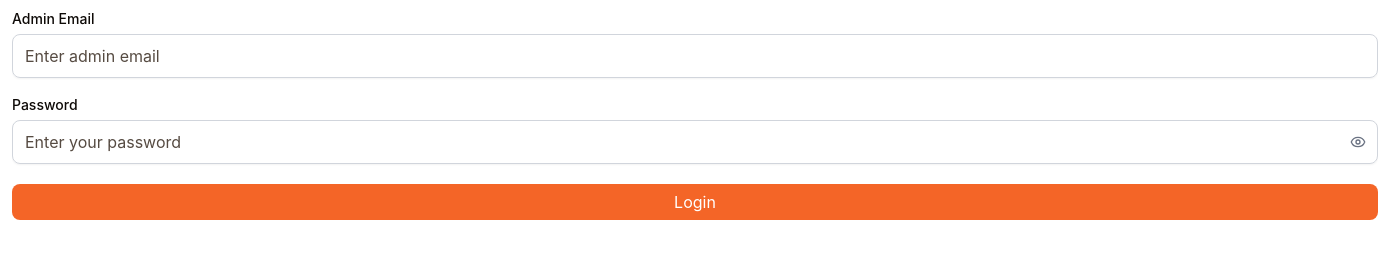
Test: AdminLoginForm › shows a validation error for an invalid admin email
This screenshot has width=1390, height=265.
Type "not-an-email-or-phone" into the field labelled "Admin Email".
click(695, 56); type("not-an-email-or-phone")  # box [12,34,1378,78]
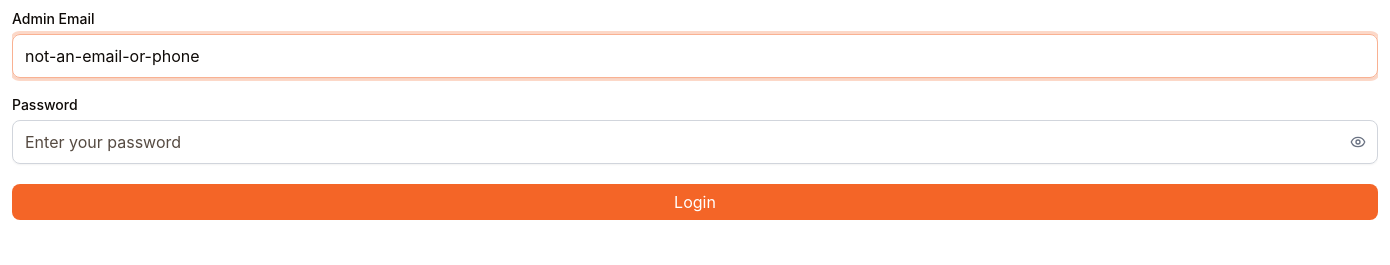
Type "password123" into the password field labelled "Password".
click(695, 142); type("password123")  # box [12,120,1378,164]
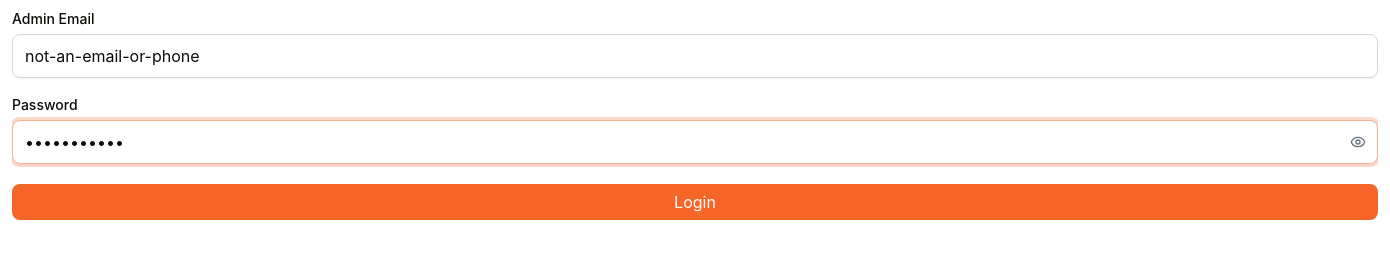
Click the button "Login".
click(695, 202)  # box [12,184,1378,220]
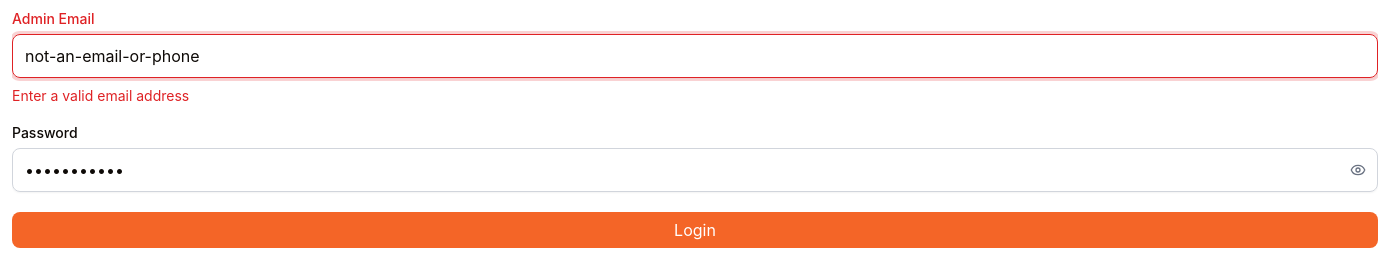
Expected: the text "Enter a valid email address" is shown, [12,87,189,104]
